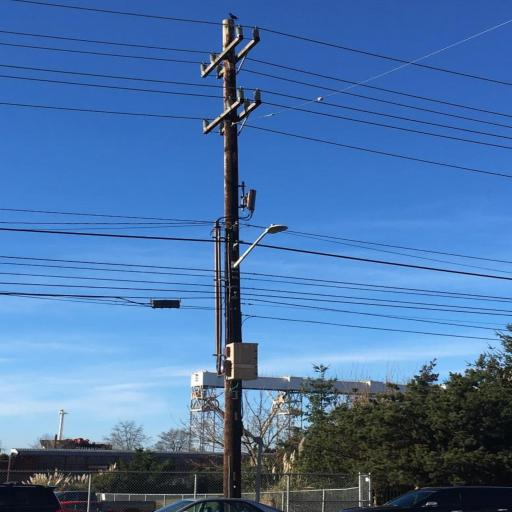mono_8: (191, 15, 270, 498)
